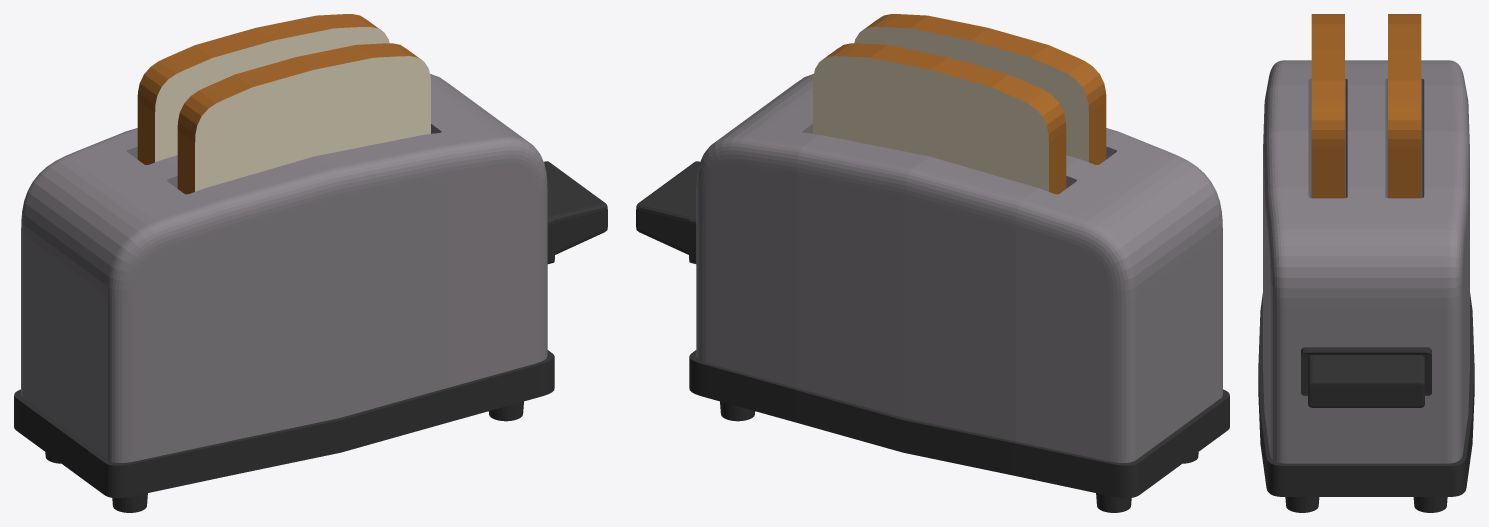
The model's file is hero003_colored.glb.
3 renders of one model, left to right at view 1: azimuth 30°, elevation 25°; view 2: azimuth 150°, elevation 25°; view 3: azimuth 270°, elevation 25°, orthographic. The views are drawn at different scales.
Parts seen in each view (by area): view 1: toaster.001, bread.001, handle.001; view 2: toaster.001, bread.001, handle.001; view 3: toaster.001, bread.001, handle.001.
Boxes of the visible parts, <box> form: toaster.001: <box>14,74,554,512</box>; bread.001: <box>137,14,430,194</box>; handle.001: <box>544,161,607,263</box>; toaster.001: <box>689,74,1229,512</box>; bread.001: <box>813,14,1106,194</box>; handle.001: <box>636,161,699,263</box>; toaster.001: <box>1258,60,1474,512</box>; bread.001: <box>1311,14,1421,198</box>; handle.001: <box>1301,347,1431,407</box>.
Size of the model in its own units: 2.74 by 1.95 by 1.04.
